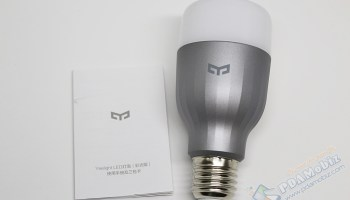Light_bulb: (173, 1, 278, 200)
